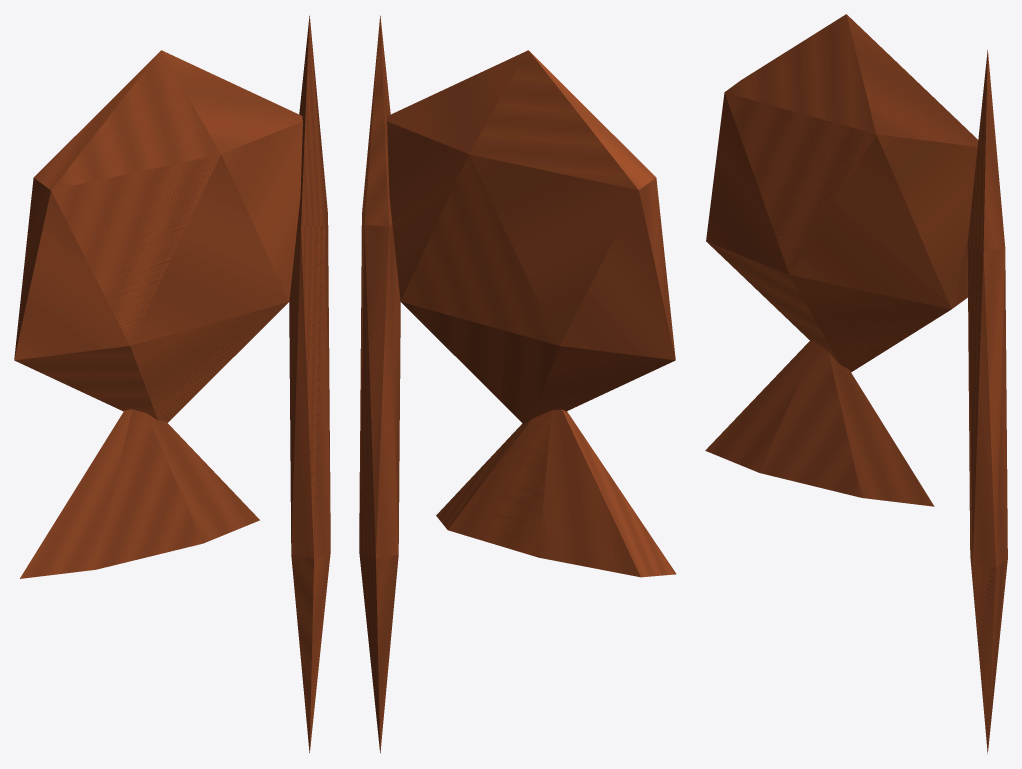
File: battle_elegy.glb
3 views of the same model, side by side, from view 1: azimuth 30°, elevation 25°; view 2: azimuth 150°, elevation 25°; view 3: azimuth 330°, elevation 25° (orthographic). The views are drawn at different scales.
Parts seen in each view (by area): view 1: gear_battle_elegy; view 2: gear_battle_elegy; view 3: gear_battle_elegy.
Boxes of the visible parts, x1,y1,x2,y2 form: gear_battle_elegy: [14, 15, 330, 752]; gear_battle_elegy: [359, 15, 676, 753]; gear_battle_elegy: [705, 14, 1007, 753].
Bounding box in the file's own units: 0.3812 × 0.86 × 0.0598.
Materials: 1 (1 with a texture image).
